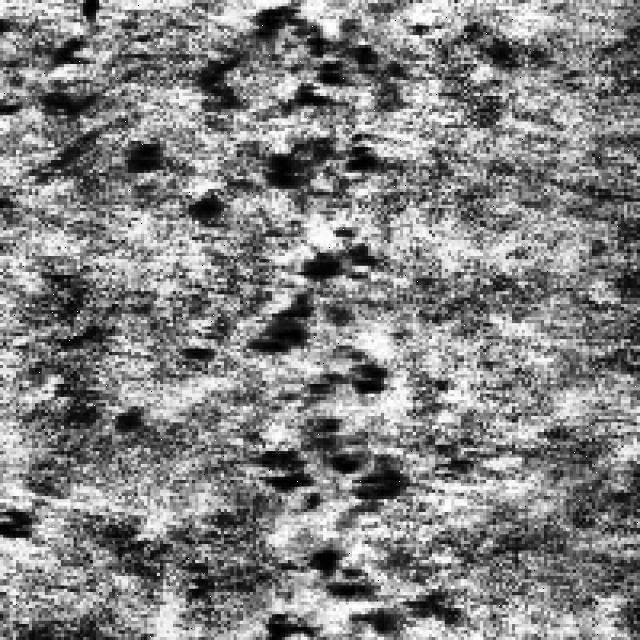Crazing: (230, 6, 416, 628), (29, 9, 256, 228)
